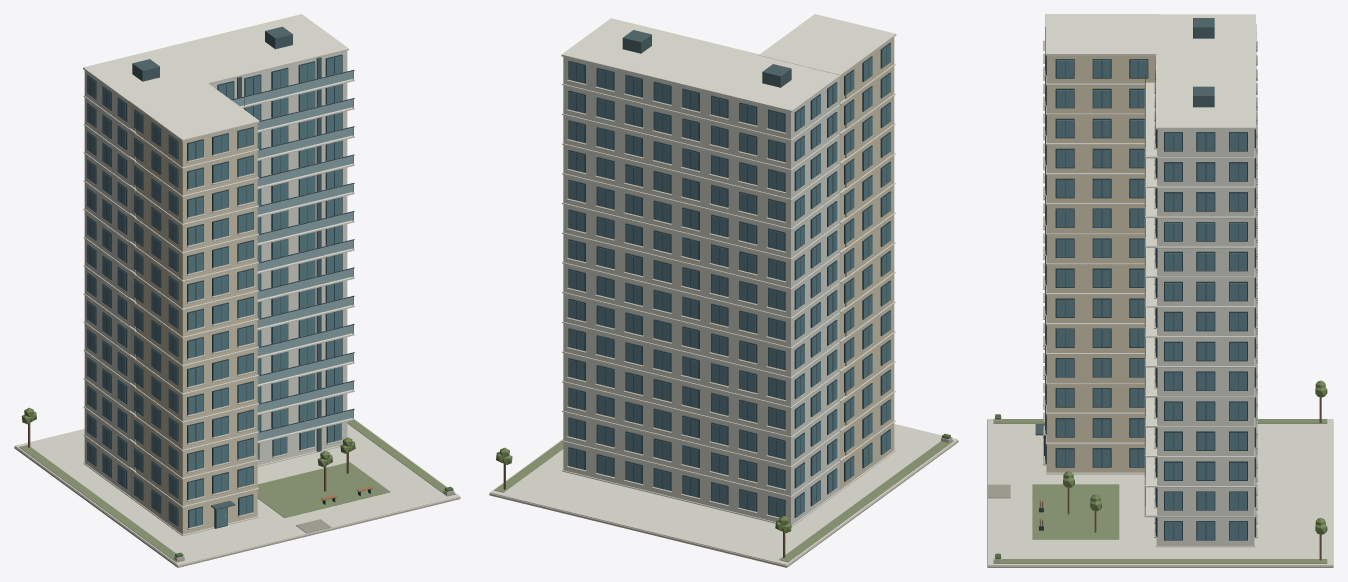
File: large-8x8-a.glb
3 renders of one model, left to right at view 1: azimuth 30°, elevation 25°; view 2: azimuth 150°, elevation 25°; view 3: azimuth 270°, elevation 25°, orthographic. The views are drawn at different scales.
Parts seen in each view (by area): view 1: BuildingBody.001, BuildingBody, LotTop, RoofCap, RoofCap.001, GardenCourt, GrassSide, LotBase, BalconyGlass.012, GrassSide.001, BalconyGlass.005, BalconyGlass.009 (+10 smaller); view 2: BuildingBody, LotTop, BuildingBody.001, RoofCap, RoofCap.001, GrassSide, LotBase, GrassSide.001, FloorBand.002, FloorBand.001, FloorBand.007, FloorBand.008 (+10 smaller); view 3: BuildingBody.001, BuildingBody, LotTop, RoofCap, RoofCap.001, GardenCourt, GrassSide.001, LotBase, BalconySlab.012, GrassSide, RoofMechanical.001, RoofMechanical.
Part boxes in pixels (x1=…): BuildingBody.001: x1=130, y1=104, x2=257, y2=534; BuildingBody: x1=84, y1=51, x2=347, y2=496; LotTop: x1=15, y1=419, x2=459, y2=565; RoofCap: x1=83, y1=14, x2=348, y2=103; RoofCap.001: x1=129, y1=82, x2=259, y2=141; GardenCourt: x1=257, y1=462, x2=390, y2=517; GrassSide: x1=19, y1=445, x2=184, y2=562; LotBase: x1=14, y1=446, x2=460, y2=567; BalconyGlass.012: x1=135, y1=71, x2=353, y2=131; GrassSide.001: x1=347, y1=420, x2=455, y2=496; BalconyGlass.005: x1=135, y1=268, x2=353, y2=329; BalconyGlass.009: x1=135, y1=155, x2=353, y2=216; BuildingBody: x1=563, y1=57, x2=839, y2=524; LotTop: x1=490, y1=424, x2=957, y2=565; BuildingBody.001: x1=839, y1=37, x2=894, y2=489; RoofCap: x1=561, y1=18, x2=841, y2=112; RoofCap.001: x1=759, y1=14, x2=896, y2=75; GrassSide: x1=779, y1=440, x2=953, y2=562; LotBase: x1=489, y1=440, x2=958, y2=567; GrassSide.001: x1=494, y1=440, x2=563, y2=492; FloorBand.002: x1=562, y1=410, x2=839, y2=467; FloorBand.001: x1=562, y1=440, x2=839, y2=497; FloorBand.007: x1=562, y1=262, x2=839, y2=319; FloorBand.008: x1=562, y1=232, x2=839, y2=289; BuildingBody.001: x1=1046, y1=55, x2=1155, y2=472; BuildingBody: x1=1157, y1=129, x2=1254, y2=545; LotTop: x1=987, y1=419, x2=1333, y2=565; RoofCap: x1=1156, y1=14, x2=1255, y2=129; RoofCap.001: x1=1045, y1=14, x2=1158, y2=55; GardenCourt: x1=1032, y1=484, x2=1119, y2=539; GrassSide.001: x1=993, y1=559, x2=1327, y2=563; LotBase: x1=987, y1=420, x2=1333, y2=567; BalconySlab.012: x1=1144, y1=82, x2=1157, y2=158; GrassSide: x1=993, y1=419, x2=1327, y2=423; RoofMechanical.001: x1=1193, y1=86, x2=1214, y2=107; RoofMechanical: x1=1193, y1=18, x2=1214, y2=38.
Bounding box in the file's own units: 32 × 44.42 × 32.
